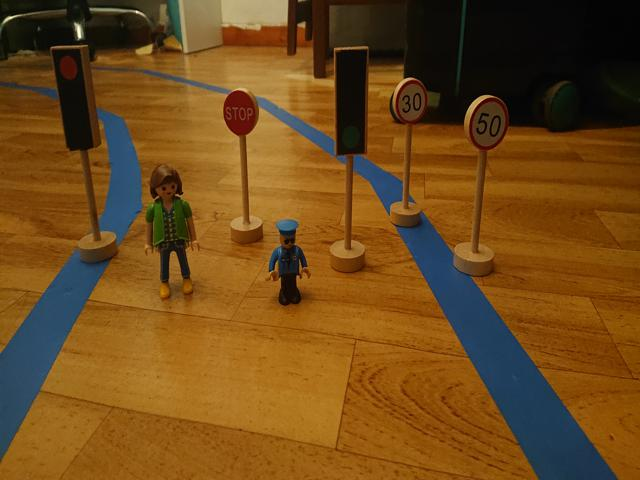30 speed sign: (395, 78, 431, 127)
50 speed sign: (468, 95, 509, 150)
green light: (337, 54, 364, 153)
person: (144, 164, 200, 302), (268, 220, 311, 307)
red light: (56, 50, 82, 145)
stop sign: (222, 90, 257, 136)
